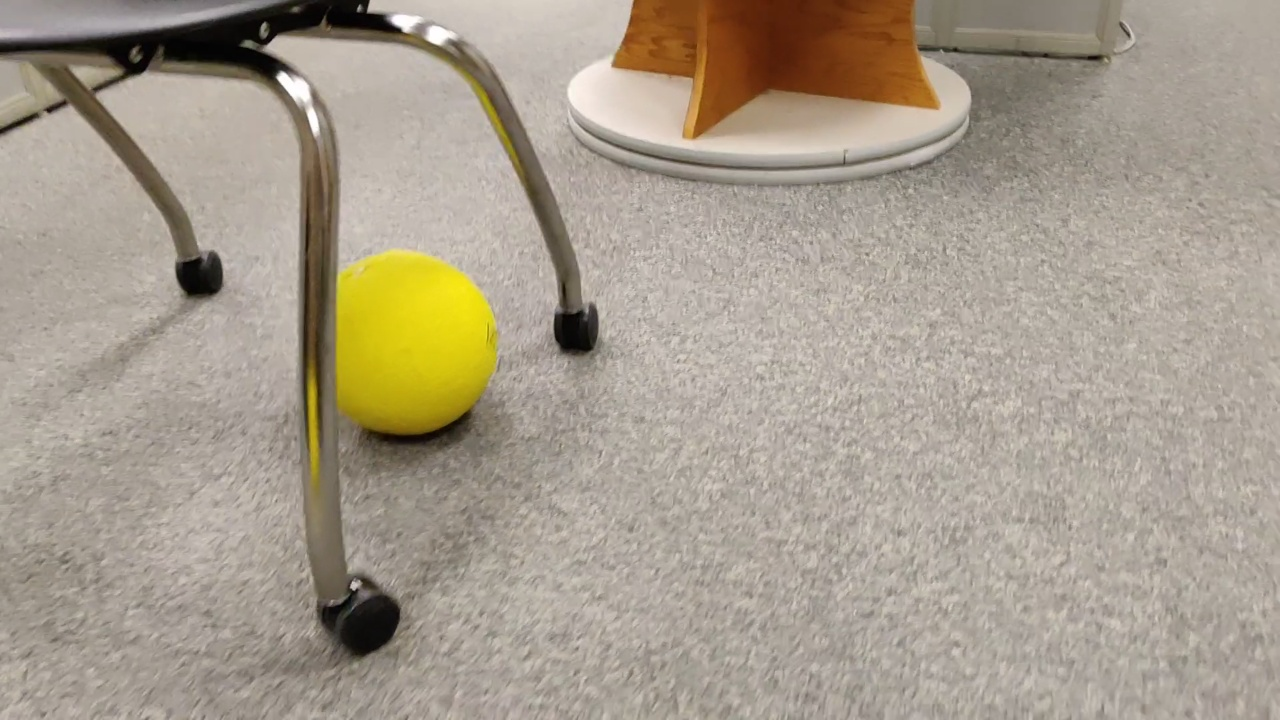Ball: (300, 250, 504, 439)
